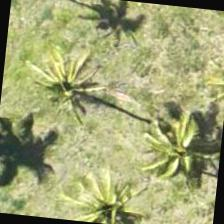Kelapa_Sawit: (20, 25, 119, 124), (140, 89, 223, 188), (62, 164, 158, 223)
